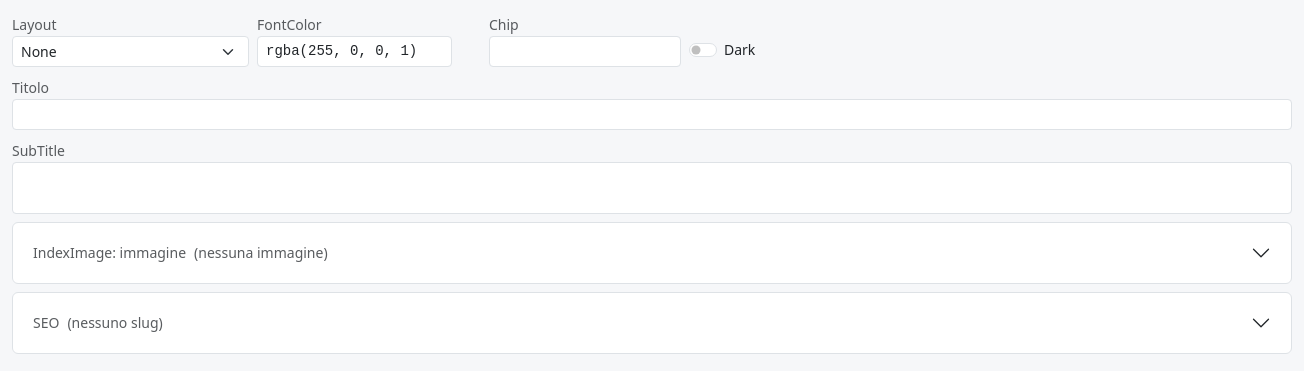
Scenario: HeaderEditor › FontColor vuoto torna al default
The width and height of the screenshot is (1304, 371).
Clear the field labelled "FontColor": {"x": 354, "y": 52} [257, 36, 452, 67]
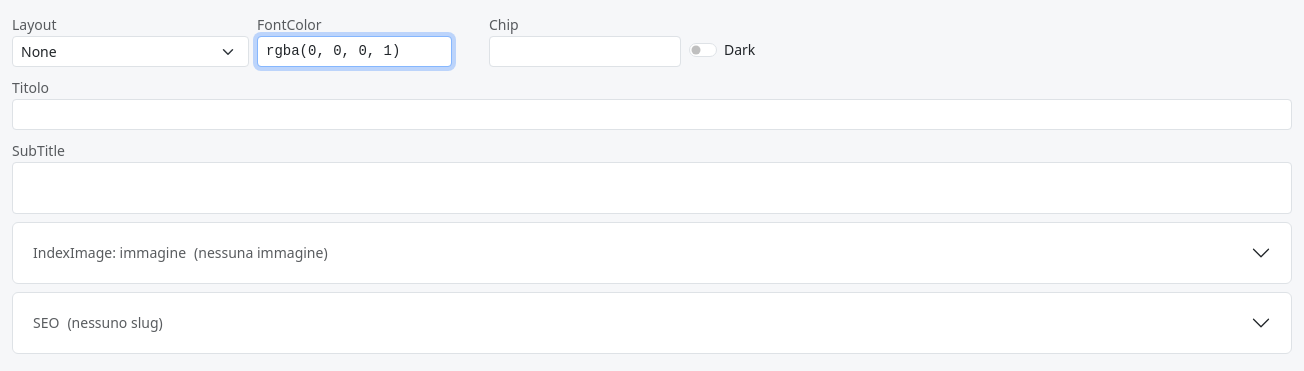
Expected: the field labelled "FontColor" holds "rgba(0, 0, 0, 1)", [257, 36, 452, 67]
